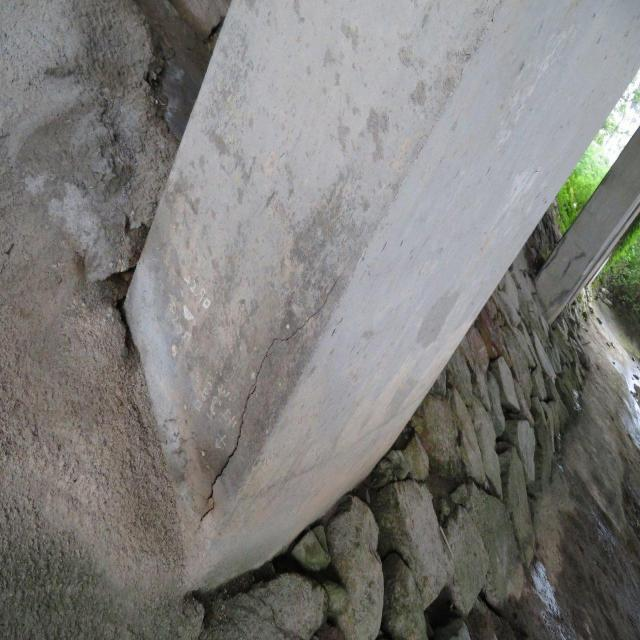vertical crack: (199, 267, 347, 523)
